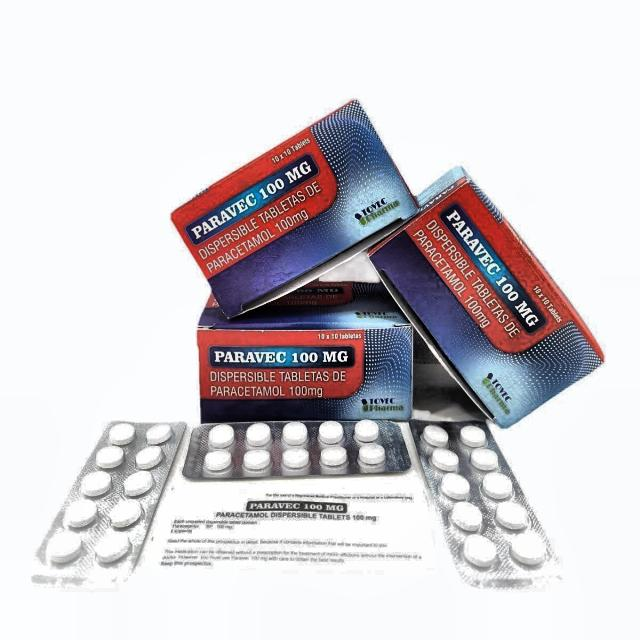Paracetamol: (379, 185, 585, 410), (174, 116, 380, 319), (198, 335, 410, 414)
